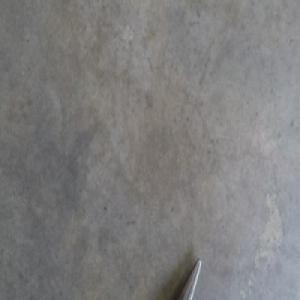Pliers: (176, 258, 202, 298)
